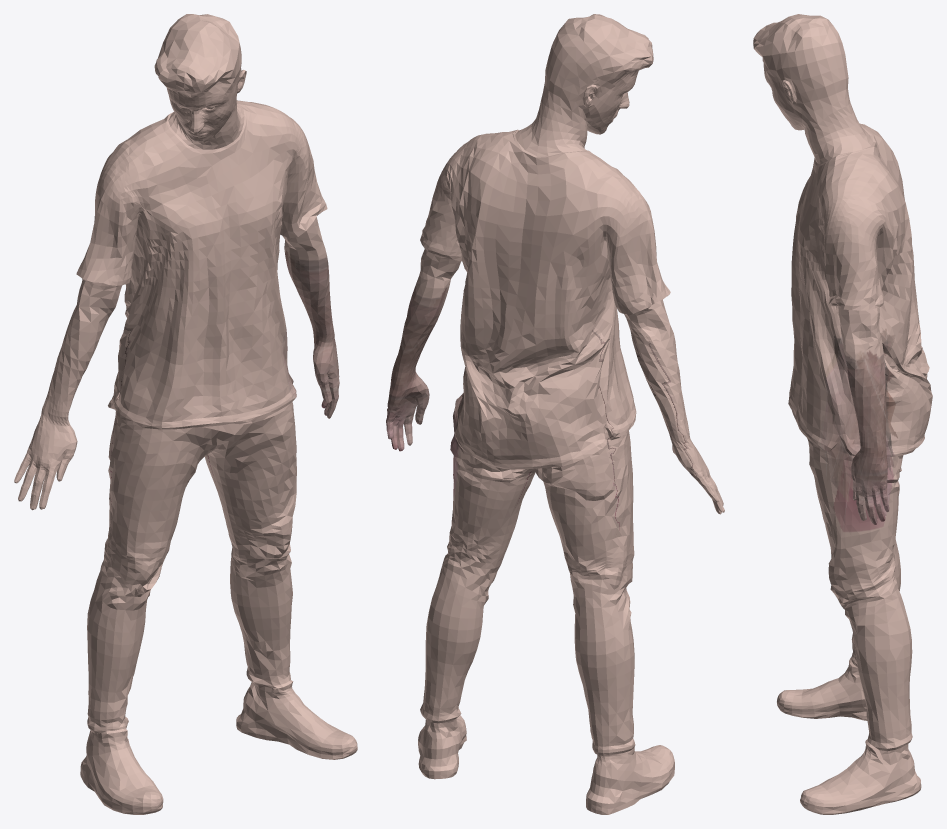
File: avatar_mesh.glb
3 renders of one model, left to right at view 1: azimuth 30°, elevation 25°; view 2: azimuth 150°, elevation 25°; view 3: azimuth 270°, elevation 25°, orthographic. The views are drawn at different scales.
Bounding box in the file's own units: 0.7634 × 1.7 × 0.3819.
Materials: 1 (1 with a texture image).
